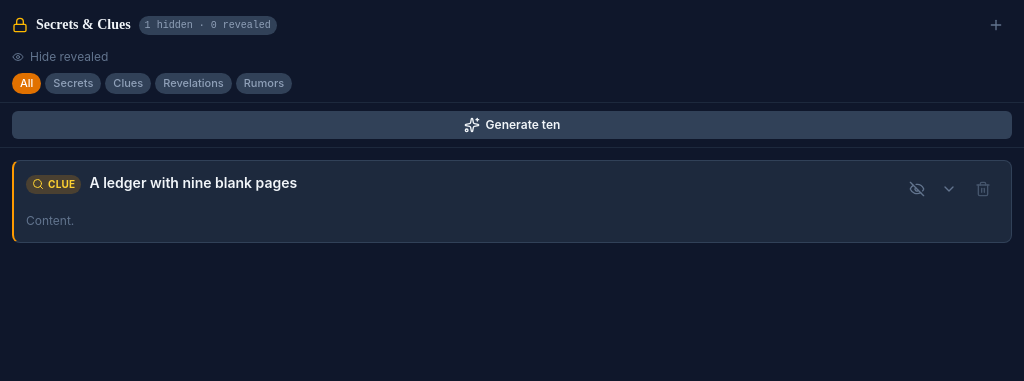
Test: SecretsTracker — the "supports revelation" picker › says so plainly instead of offering an empty picker when there are no revelations
Click the button "A ledger with nine blank pages" at (193, 182), box [90, 172, 895, 192]
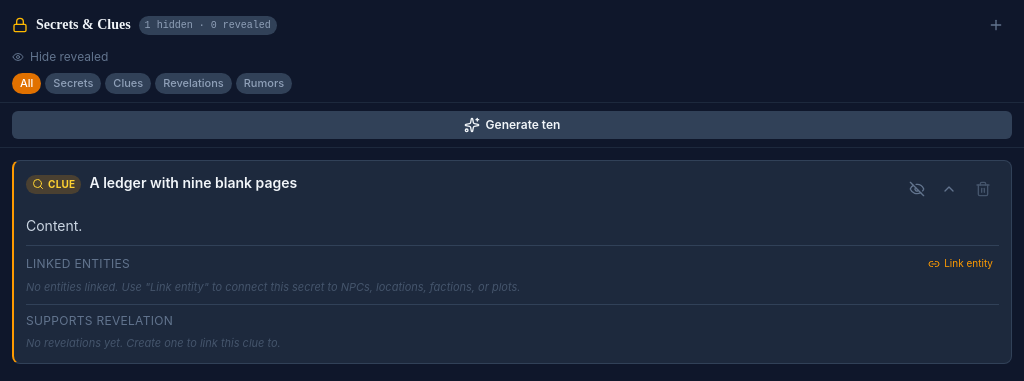
expect the text "No revelations yet. Create one to link this clue to." is shown: met, box [26, 336, 281, 350]
